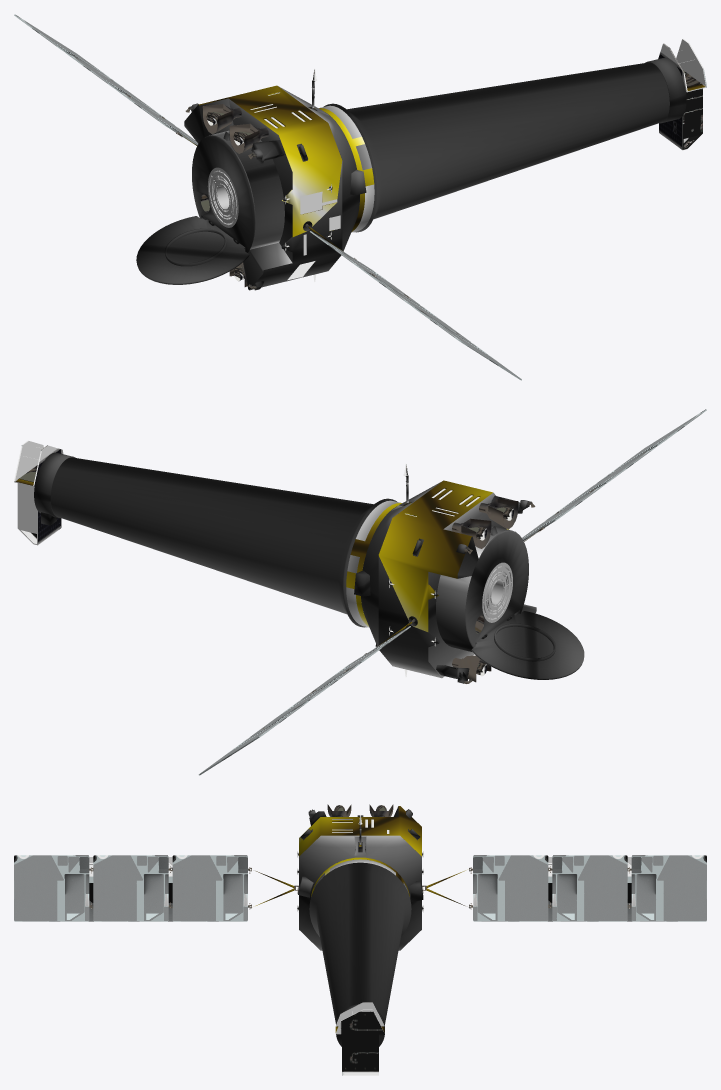
Rendered from Sat_Chandra.obj.
The picture shows the model from 3 angles, top to bottom: view 1: azimuth 30°, elevation 25°; view 2: azimuth 150°, elevation 25°; view 3: azimuth 270°, elevation 25°; orthographic projection. The views are drawn at different scales.
Visible parts, largest first — view 1: foil_silver, tex_01, foil_gold, AO_HRMA; view 2: foil_silver, foil_gold, tex_01, AO_HRMA; view 3: tex_01, foil_silver, foil_gold, shiny_panel.
Part boxes in pixels (x1,y1,x2,y2): foil_silver: (136, 57, 686, 290); tex_01: (14, 14, 706, 380); foil_gold: (185, 84, 705, 250); AO_HRMA: (207, 167, 338, 227); foil_silver: (34, 452, 584, 683); foil_gold: (16, 479, 534, 646); tex_01: (14, 409, 706, 775); AO_HRMA: (482, 562, 512, 622); tex_01: (14, 804, 706, 1075); foil_silver: (297, 806, 423, 1046); foil_gold: (256, 806, 465, 1032); shiny_panel: (88, 857, 632, 921).
Bounding box in the file's own units: 1.41 × 0.5268 × 2.
Materials: 6 (4 with a texture image).
